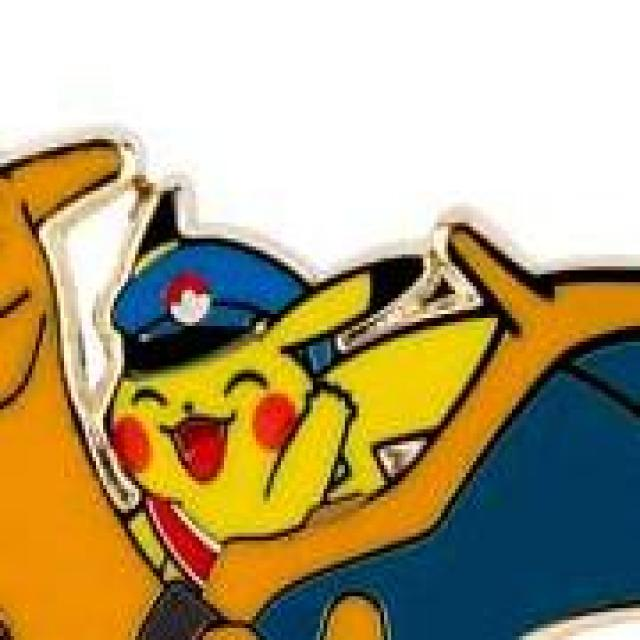pikachu: (103, 178, 505, 546)
